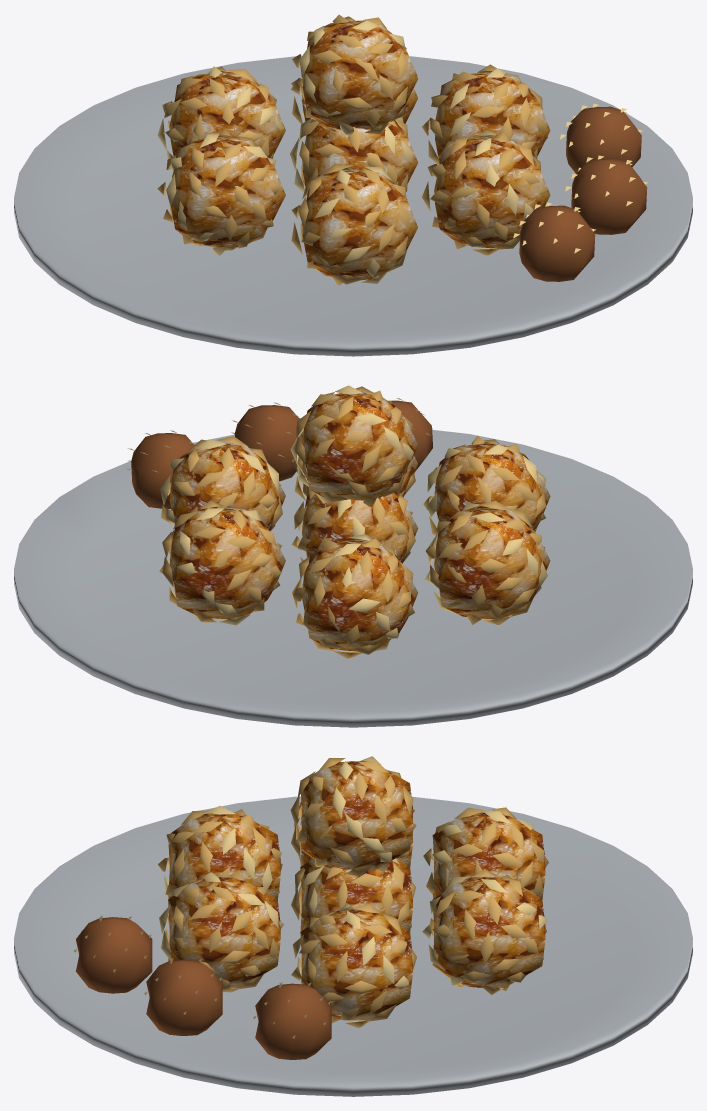
The model's file is prop_moa_plate.glb.
The picture shows the model from 3 angles, top to bottom: view 1: azimuth 30°, elevation 25°; view 2: azimuth 150°, elevation 25°; view 3: azimuth 270°, elevation 25°; orthographic projection.
Visible parts, largest first — view 1: prop_moa_plate; view 2: prop_moa_plate; view 3: prop_moa_plate.
Boxes of the visible parts, bbox=[...] form: prop_moa_plate: bbox=[14, 14, 692, 356]; prop_moa_plate: bbox=[14, 385, 692, 727]; prop_moa_plate: bbox=[14, 756, 692, 1096].
Size of the model in its own units: 0.36 by 0.1252 by 0.36.
5 materials, 1 textured.
